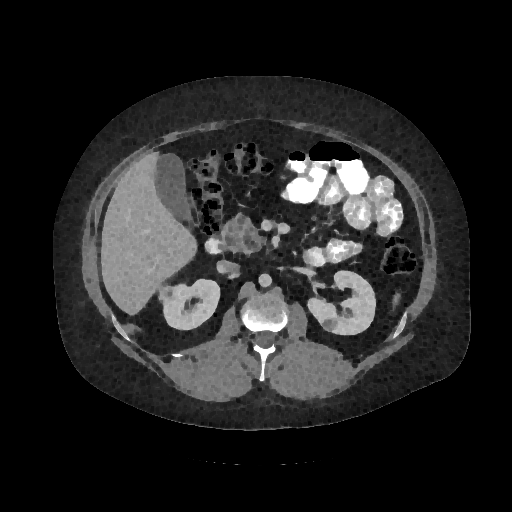Lesion: (321, 315, 343, 331)
